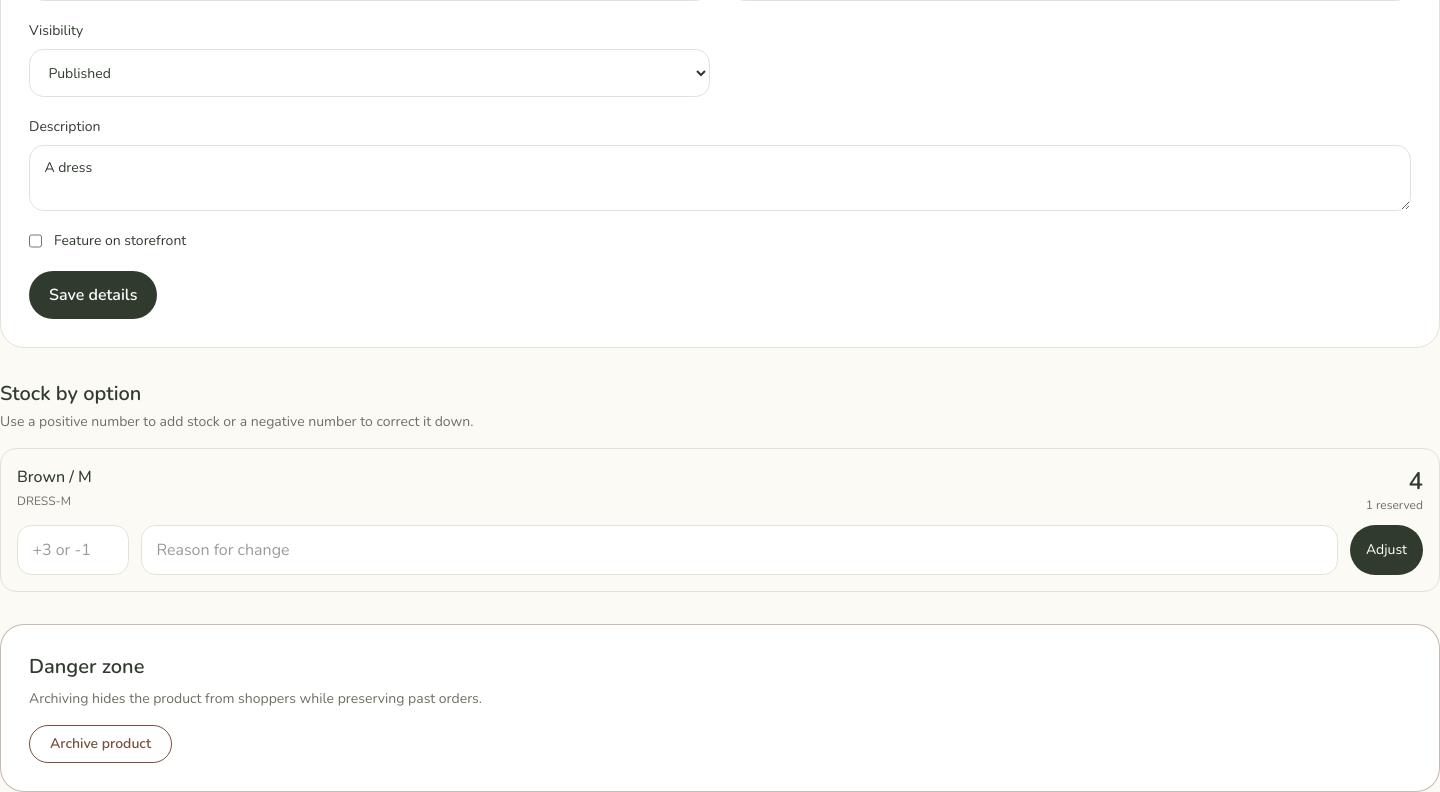
Scenario: AdminProductEditor › shows stock adjustment errors and expired sessions
(page scrolled)
Type "-5" into the number field named "Stock change for Brown / M" at (73, 550), box [17,525,129,575]
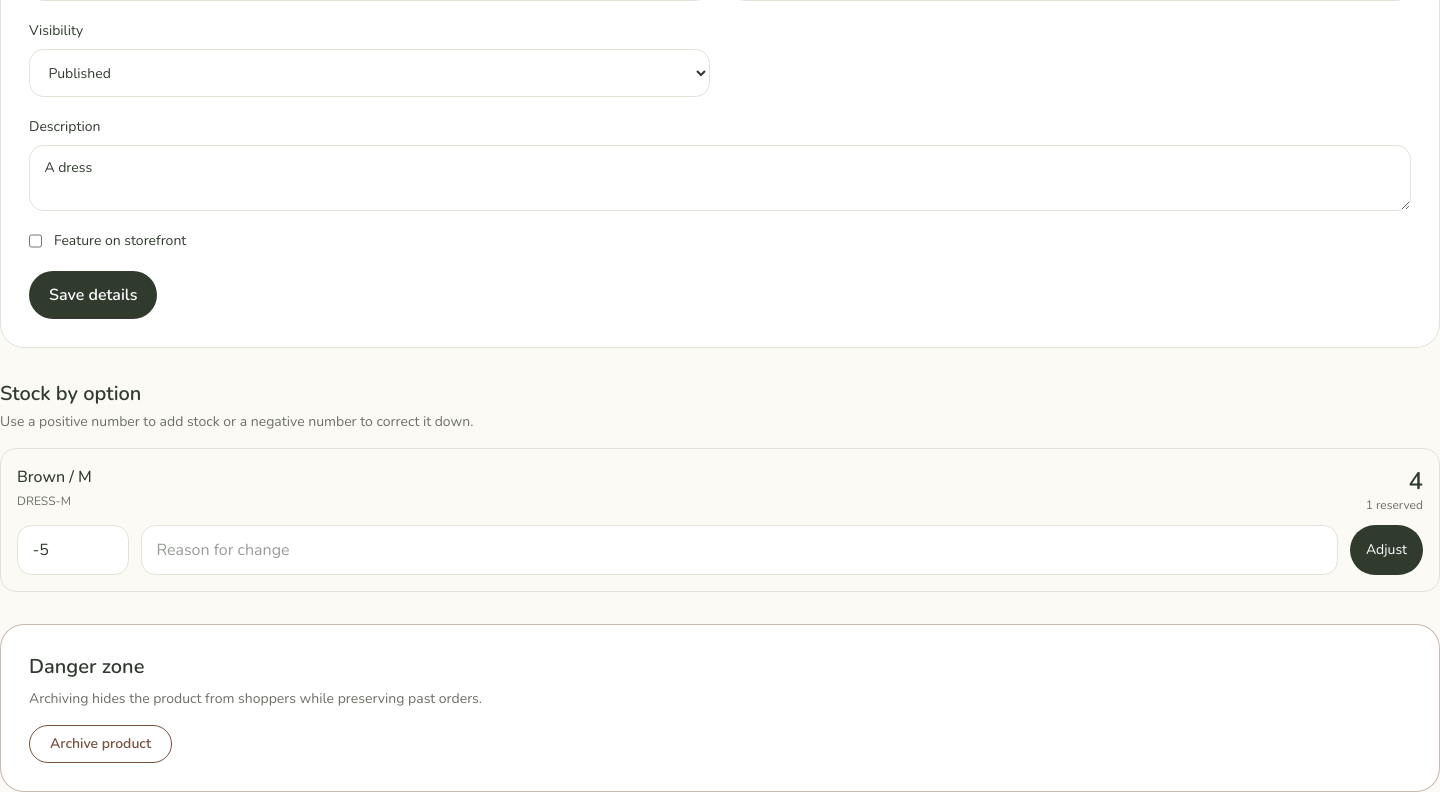
Type "Correction" into the field named "Reason for Brown / M" at (740, 550), box [141,525,1338,575]
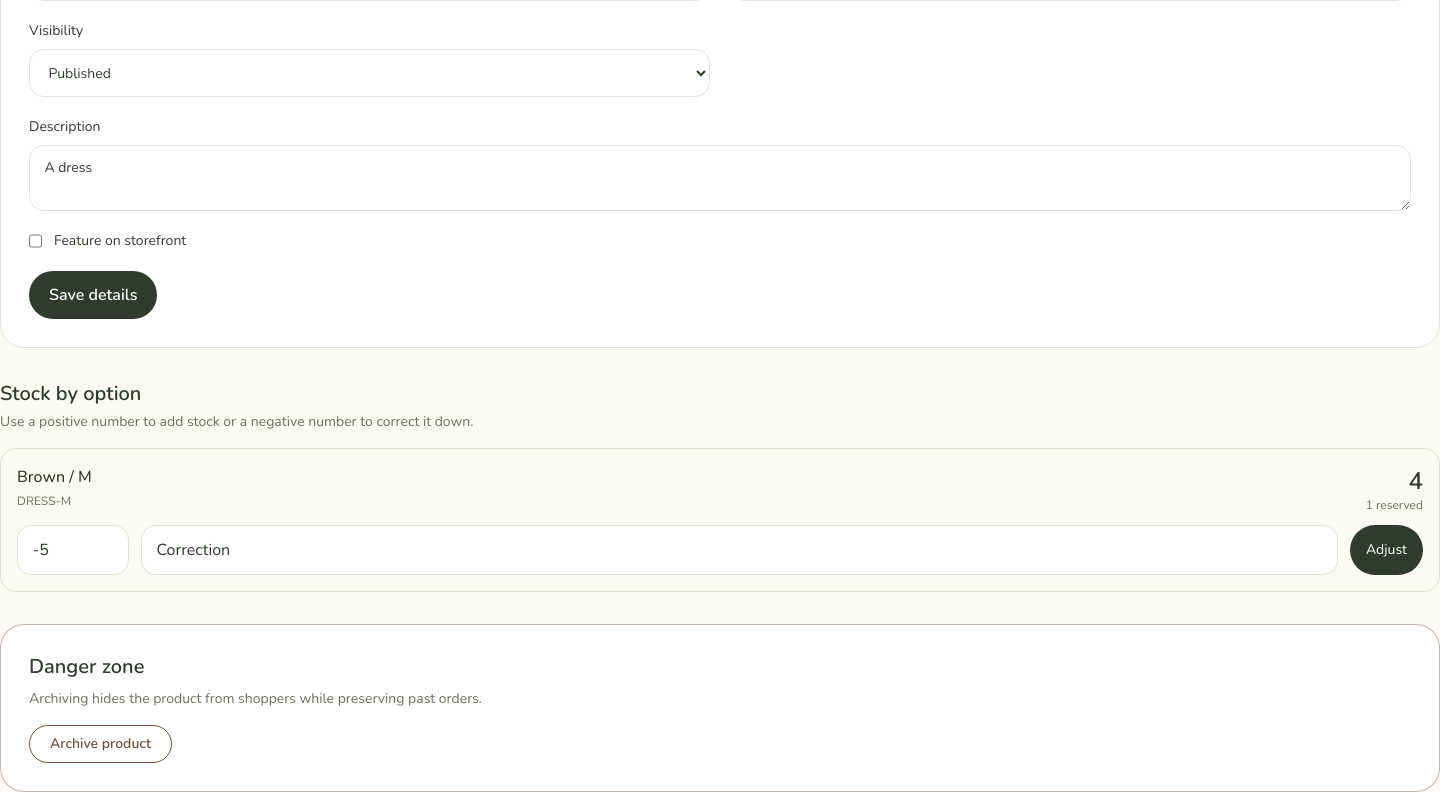
Click the button "Adjust" at (1386, 550), box [1350,525,1423,575]
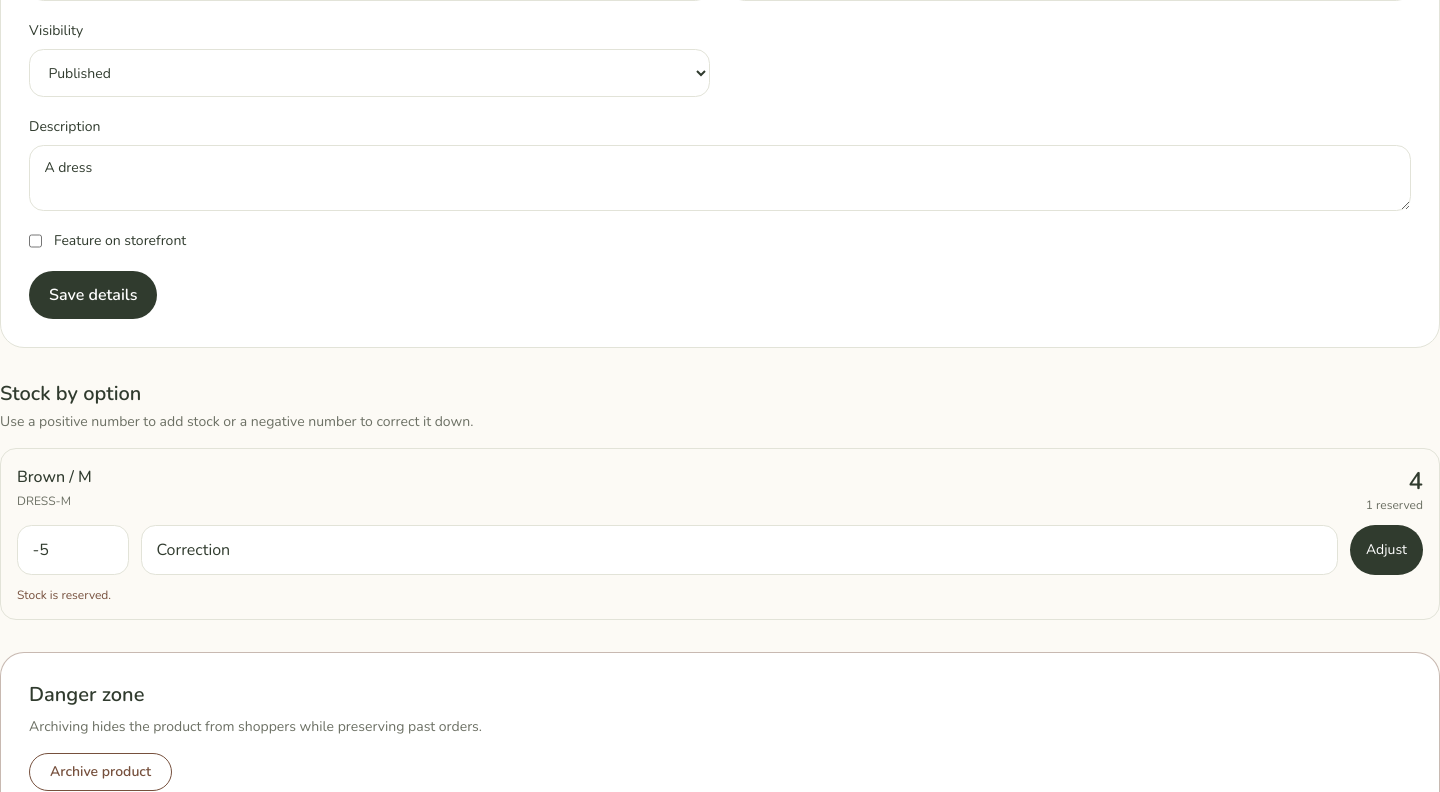
Result: the text "Stock is reserved." is shown at [17,587,111,603]
Click the button "Save details" at (93, 295), box [29,271,157,319]
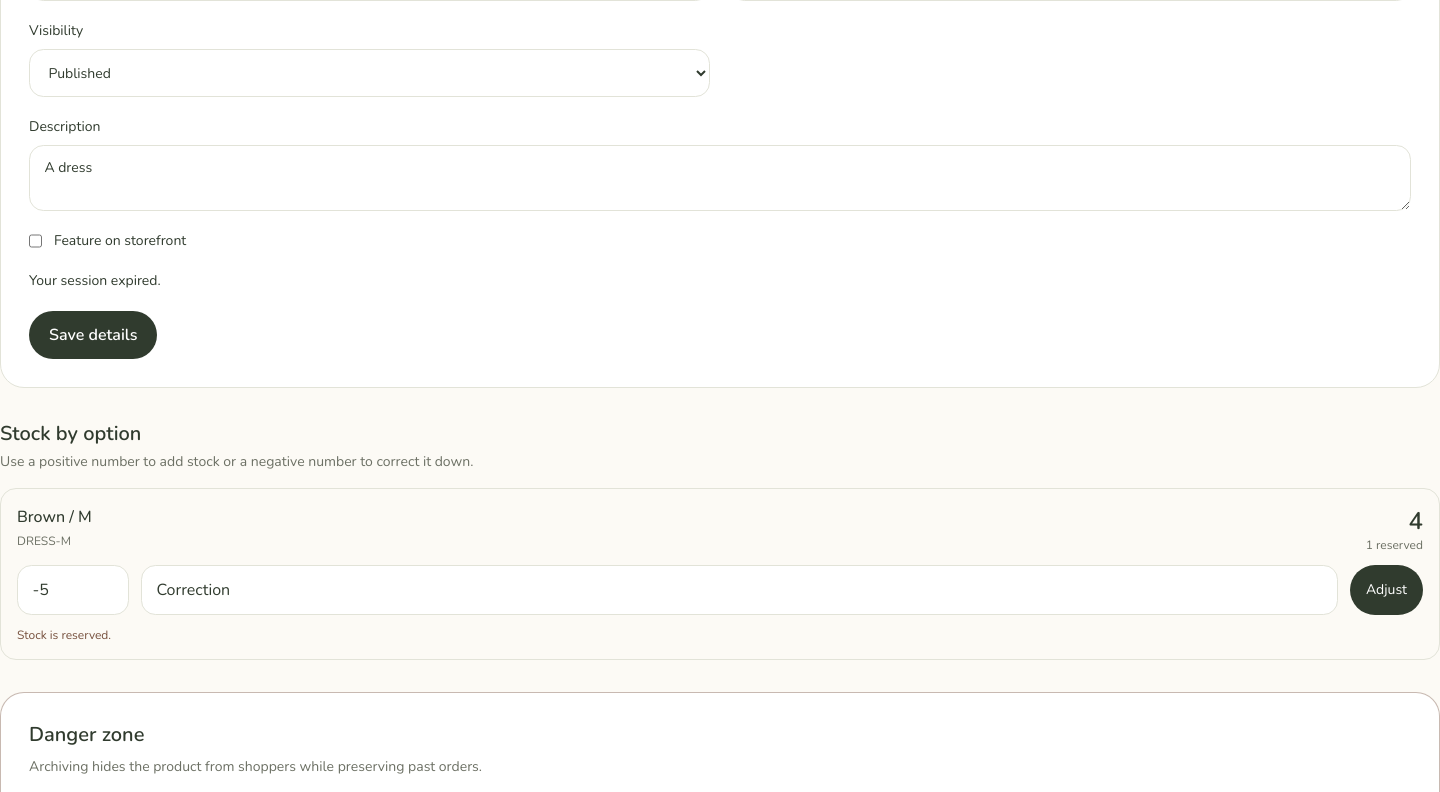
Result: the text "Your session expired." is shown at [29,271,161,290]
